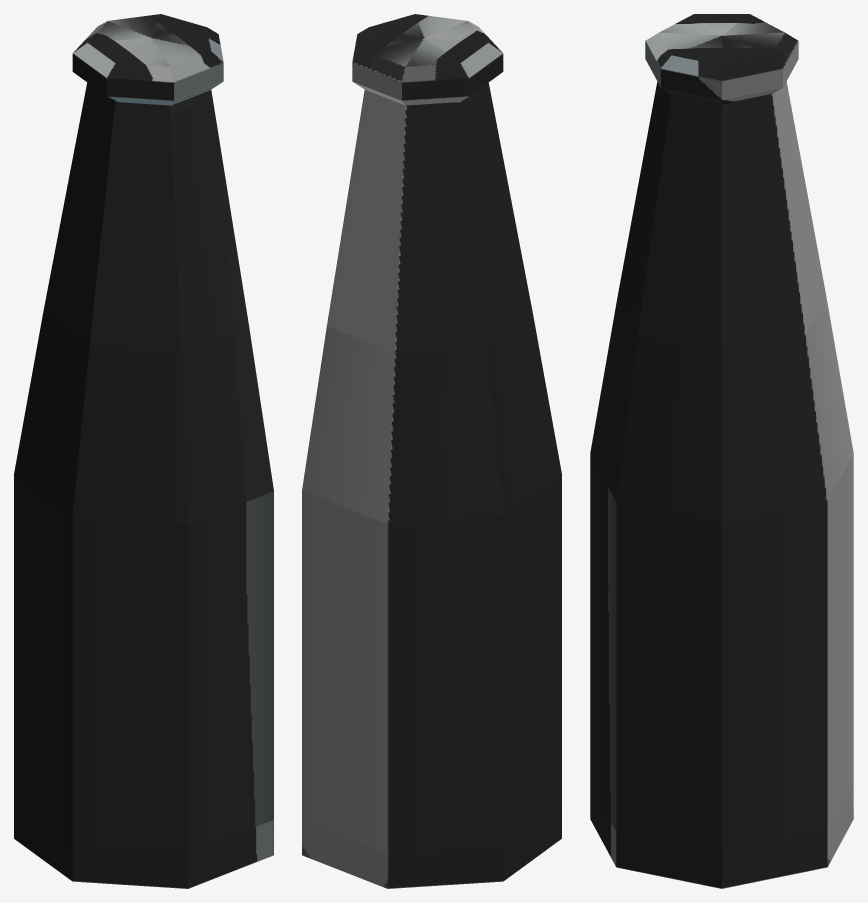
File: kuad.fbx
The picture shows the model from 3 angles, left to right: view 1: azimuth 30°, elevation 25°; view 2: azimuth 150°, elevation 25°; view 3: azimuth 270°, elevation 25°; orthographic projection.
Parts seen in each view (by area): view 1: khuat:pCylinder1; view 2: khuat:pCylinder1; view 3: khuat:pCylinder1.
Boxes of the visible parts, left/top/right/bottom form: khuat:pCylinder1: left=14, top=14, right=273, bottom=888; khuat:pCylinder1: left=302, top=14, right=561, bottom=888; khuat:pCylinder1: left=590, top=14, right=853, bottom=888.
Size of the model in its own units: 0.5856 by 2.01 by 0.6006.
